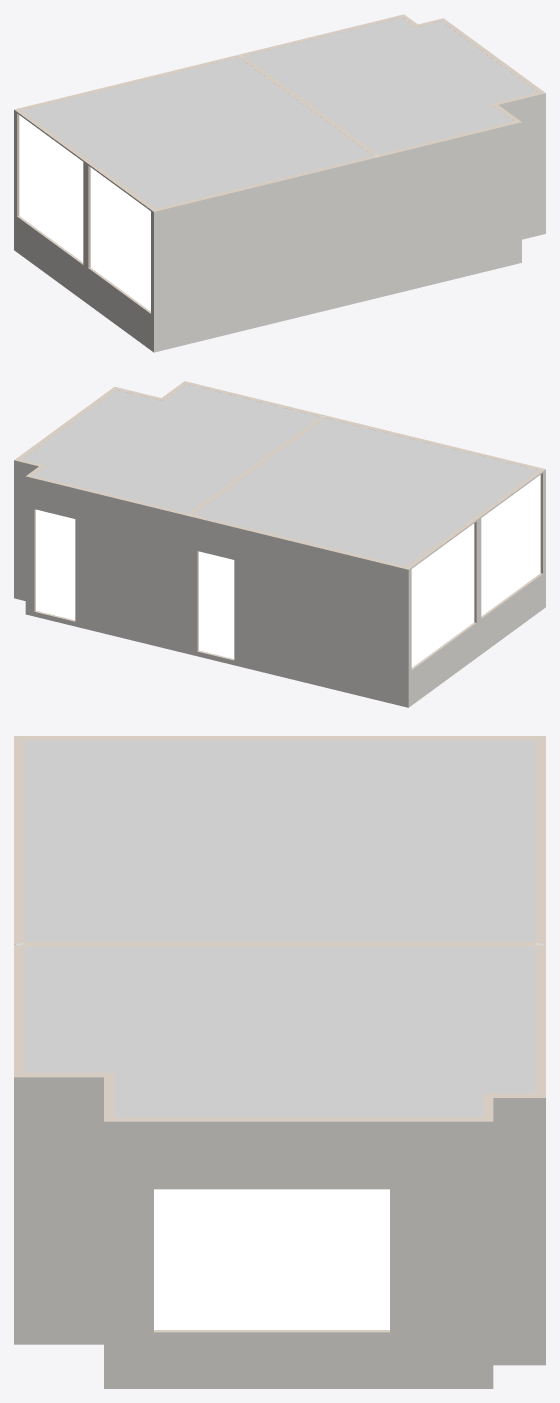
File: Room_230.glb
3 views of the same model, one above another, from view 1: azimuth 30°, elevation 25°; view 2: azimuth 150°, elevation 25°; view 3: azimuth 270°, elevation 25° (orthographic). The views are drawn at different scales.
Visible parts, largest first — view 1: Wall_3, Ceiling_Dining_Room, Wall_8, Ceiling_Other_1, Wall_4, Window_2, Window_3, Wall_7, Ceiling_Other_2, Ceiling_Other_0, Wall_6, Wall_0 (+2 smaller); view 2: Ceiling_Dining_Room, Wall_6, Wall_2, Ceiling_Other_1, Wall_4, Window_2, Window_3, Door_1, Door_2, Ceiling_Other_2, Ceiling_Other_0, Wall_5 (+4 smaller); view 3: Ceiling_Dining_Room, Wall_1, Ceiling_Other_1, Window_1, Wall_10, Wall_9, Ceiling_Other_2, Ceiling_Other_0, Wall_4, Wall_0, Wall_3, Wall_6 (+2 smaller).
Boxes of the visible parts, x1,y1,x2,y2 form: Wall_3: (154, 155, 378, 352); Ceiling_Dining_Room: (21, 56, 373, 208); Wall_8: (378, 121, 521, 297); Ceiling_Other_1: (256, 21, 537, 138); Wall_4: (14, 109, 155, 352); Window_2: (19, 115, 83, 262); Window_3: (90, 167, 150, 311); Wall_7: (492, 92, 545, 239); Ceiling_Other_2: (356, 105, 513, 155); Ceiling_Other_0: (241, 17, 413, 65); Wall_6: (14, 55, 238, 110); Wall_0: (239, 56, 377, 155); Ceiling_Dining_Room: (190, 416, 538, 566); Wall_6: (188, 514, 408, 707); Wall_2: (25, 475, 188, 653); Ceiling_Other_1: (21, 390, 297, 504); Wall_4: (407, 469, 545, 707); Window_2: (411, 523, 474, 667); Window_3: (481, 475, 540, 616); Door_1: (35, 509, 75, 620); Door_2: (198, 551, 234, 658); Ceiling_Other_2: (165, 384, 323, 432); Ceiling_Other_0: (33, 466, 199, 514); Wall_5: (14, 459, 45, 600); Ceiling_Dining_Room: (19, 740, 539, 944); Wall_1: (104, 1117, 493, 1388); Ceiling_Other_1: (109, 946, 488, 1117); Window_1: (154, 1189, 389, 1329); Wall_10: (14, 1073, 113, 1344); Wall_9: (484, 1093, 545, 1365); Ceiling_Other_2: (19, 944, 109, 1072); Ceiling_Other_0: (488, 945, 540, 1093); Wall_4: (14, 736, 545, 740); Wall_0: (24, 942, 535, 946); Wall_3: (14, 736, 24, 944); Wall_6: (535, 736, 545, 944).
Size of the model in its own units: 8.97 by 2.9 by 5.23.
12 materials, 3 textured.
